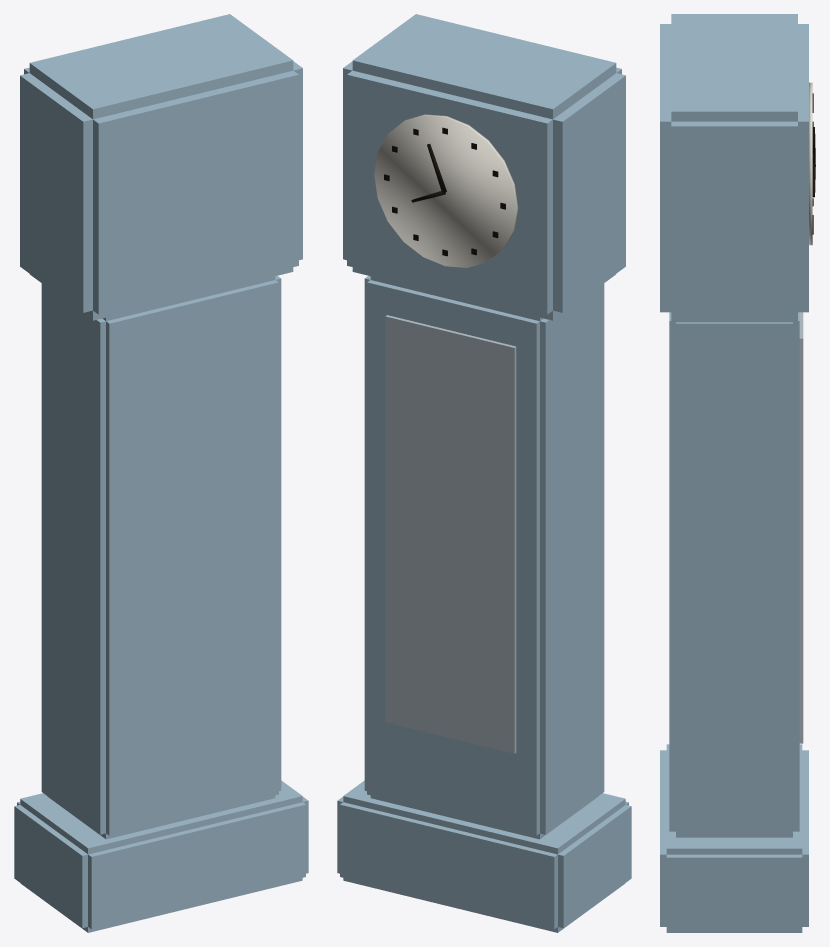
The model's file is glass_clock_v0.glb.
The picture shows the model from 3 angles, left to right: view 1: azimuth 30°, elevation 25°; view 2: azimuth 150°, elevation 25°; view 3: azimuth 270°, elevation 25°; orthographic projection.
Visible parts, largest first — view 1: glass_clock_v0; view 2: glass_clock_v0; view 3: glass_clock_v0.
Part boxes in pixels (x1=…): glass_clock_v0: x1=14, y1=14, x2=308, y2=932; glass_clock_v0: x1=337, y1=14, x2=631, y2=932; glass_clock_v0: x1=660, y1=14, x2=815, y2=932.
Bounding box in the file's own units: 0.7 × 2.42 × 0.4185.
